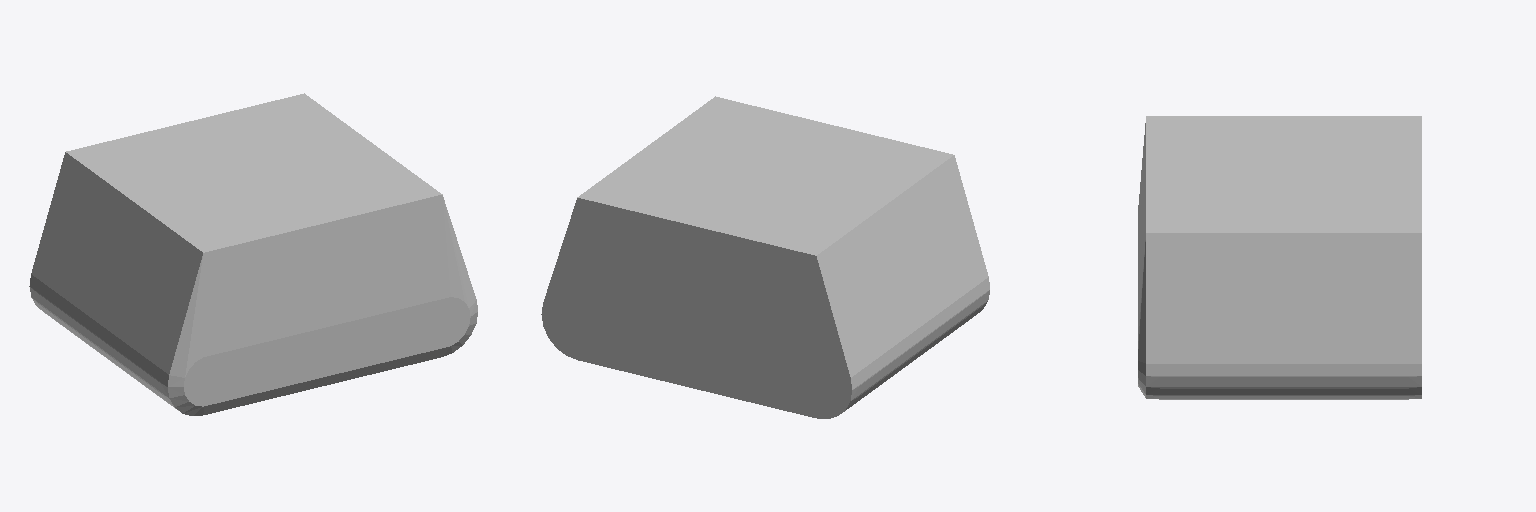
Rendered from machinegunHandle_collision.obj.
3 renders of one model, left to right at view 1: azimuth 30°, elevation 25°; view 2: azimuth 150°, elevation 25°; view 3: azimuth 270°, elevation 25°, orthographic.
Parts seen in each view (by area): view 1: Основание; view 2: Основание; view 3: Основание.
Part boxes in pixels (x1,y1,x2,y2): Основание: (29,93,477,415); Основание: (541,96,989,418); Основание: (1138,116,1421,399).
Size of the model in its own units: 1.3 by 0.65 by 1.03.